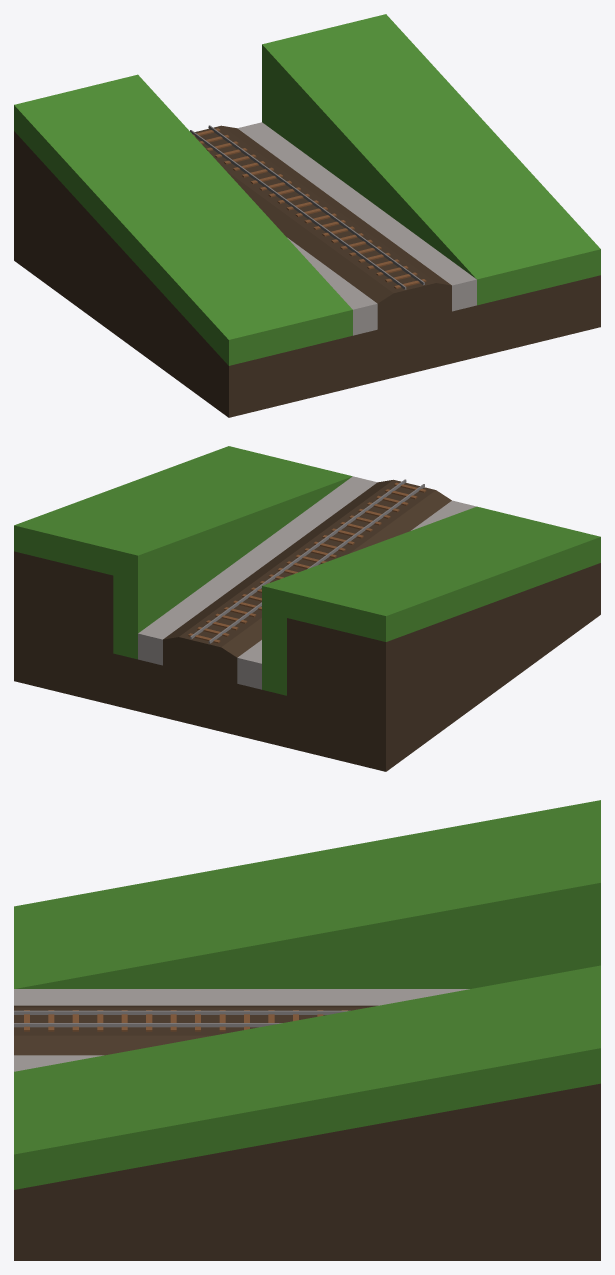
The model's file is tile-rail-tunnel-entrance.glb.
3 renders of one model, top to bottom at view 1: azimuth 30°, elevation 25°; view 2: azimuth 150°, elevation 25°; view 3: azimuth 270°, elevation 25°, orthographic. The views are drawn at different scales.
Visible parts, largest first — view 1: tile-rail-tunnel-entrance; view 2: tile-rail-tunnel-entrance; view 3: tile-rail-tunnel-entrance.
Boxes of the visible parts, <box> form: tile-rail-tunnel-entrance: <box>14,14,600,417</box>; tile-rail-tunnel-entrance: <box>14,446,600,771</box>; tile-rail-tunnel-entrance: <box>14,800,600,1260</box>.
Bounding box in the file's own units: 30 × 12 × 30.
Materials: 1 (1 with a texture image).
